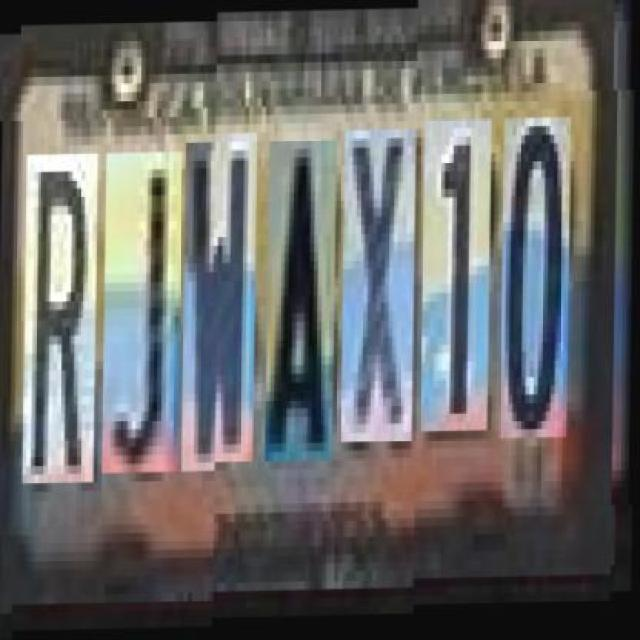1: (421, 120, 492, 434)
a: (267, 132, 338, 454)
j: (103, 135, 183, 457)
o: (501, 119, 572, 441)
r: (24, 136, 99, 467)
w: (183, 124, 259, 456)
x: (341, 122, 417, 436)
